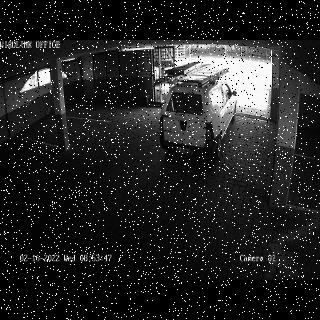car: (158, 62, 238, 160)
